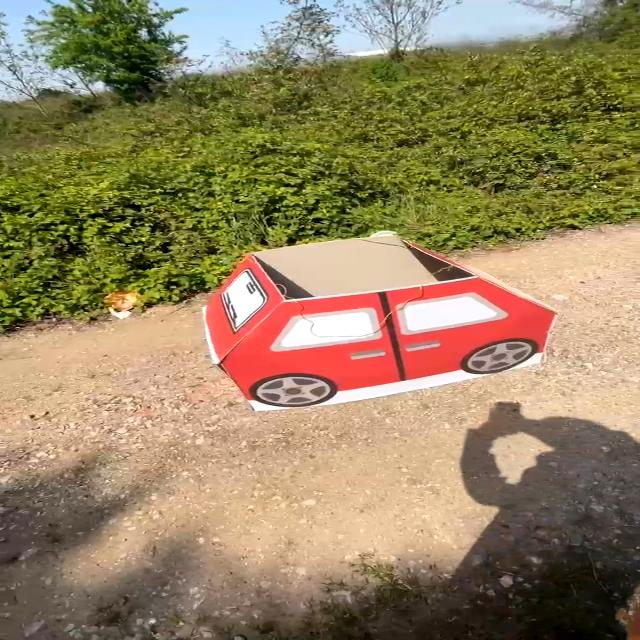red_car: (182, 230, 569, 421)
